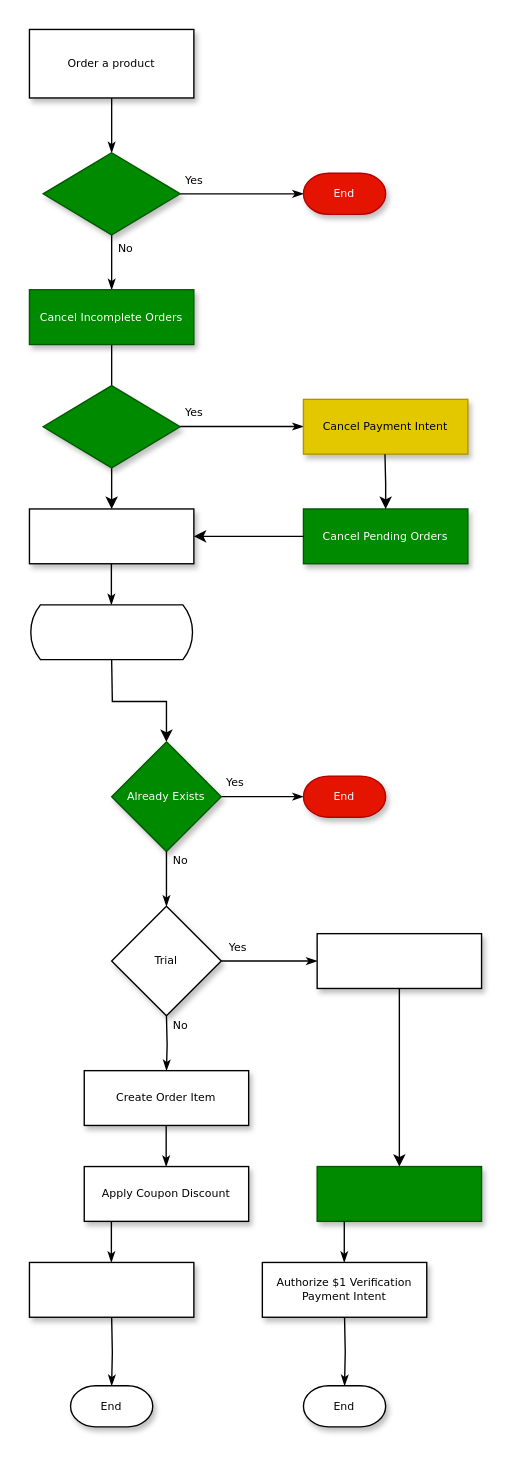
Image size: 514x1460. Some labels were removed from this diagram. Each missing label, with the centre of its shape:
"Active Subscription" belongs at point (112, 195).
"Apply Coupon on Next recurring Payment Only" belongs at point (400, 1195).
"Create Order" belongs at point (112, 537).
"Create Trial Order Item" belongs at point (400, 962).
"Loop order items" belongs at point (111, 631).
"Payment Intent with discount" belongs at point (112, 1291).
"Pending Orders" belongs at point (112, 428).
